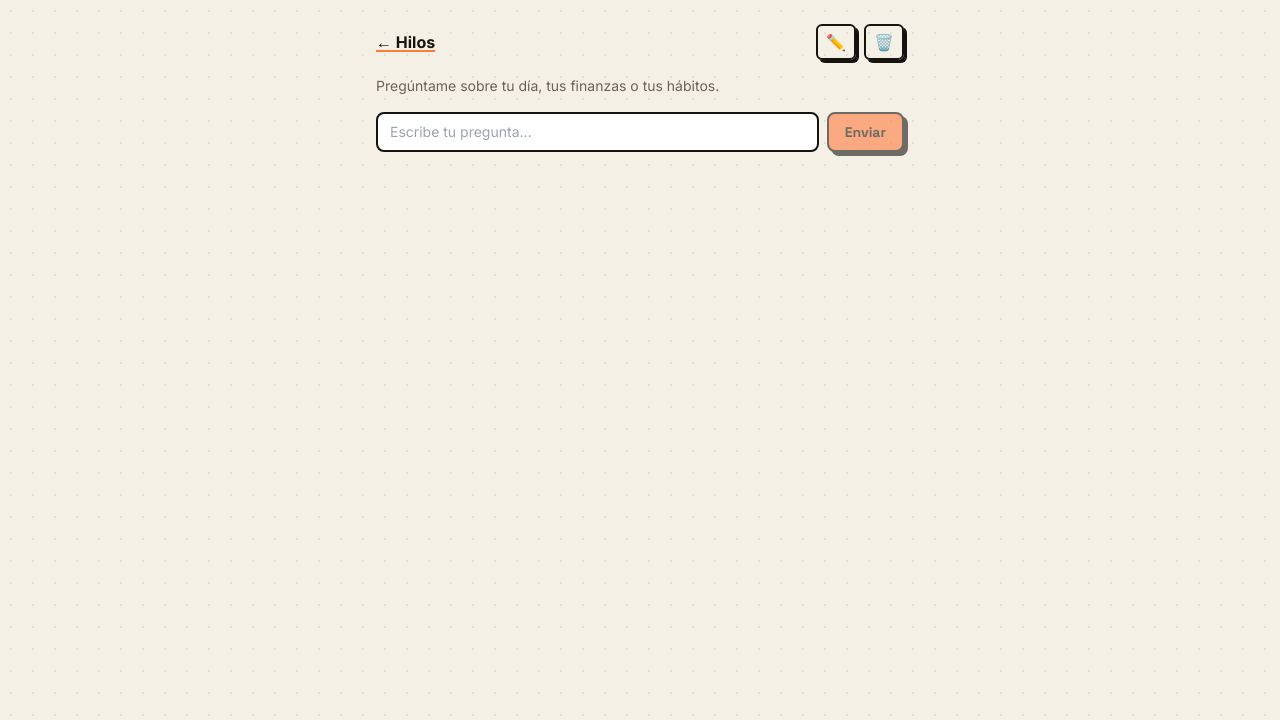
Test: ThreadChatPage › al enviar agrega la burbuja con la respuesta
Type "¿cómo voy?" into the field named "Mensaje" at [597, 132], box [376, 112, 819, 152]
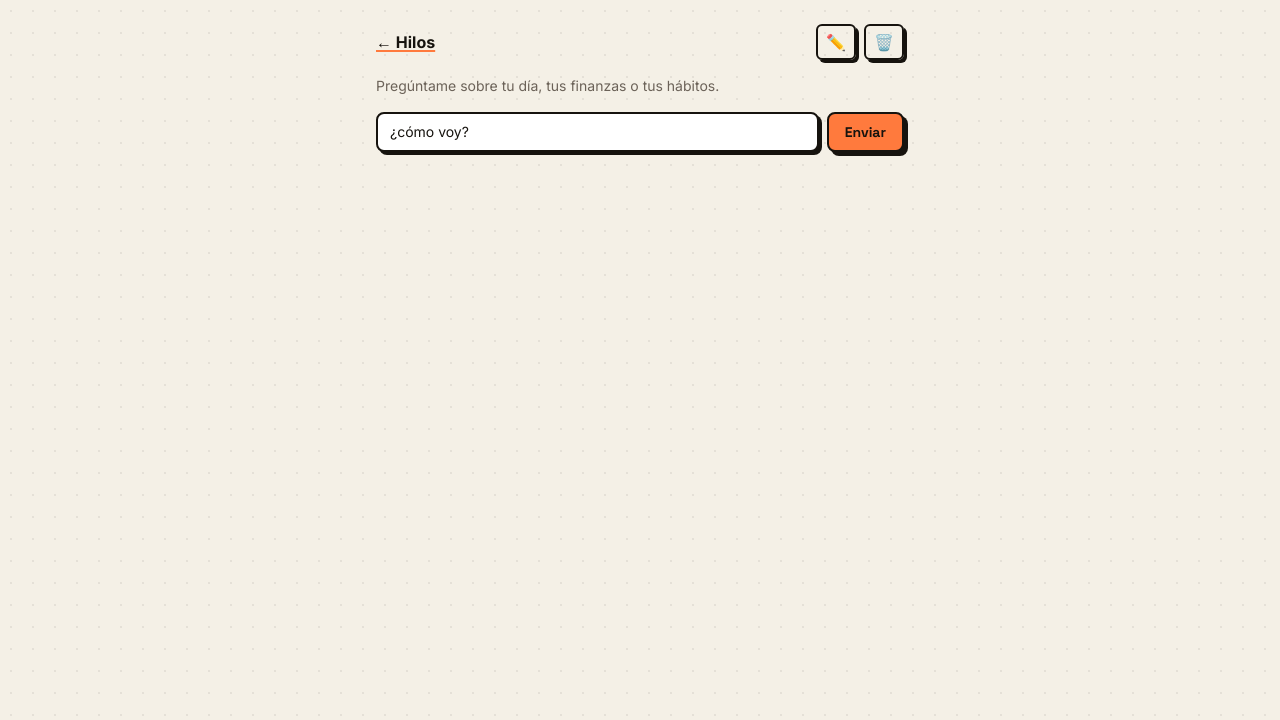
Click the button "Enviar" at [865, 132], box [827, 112, 904, 152]
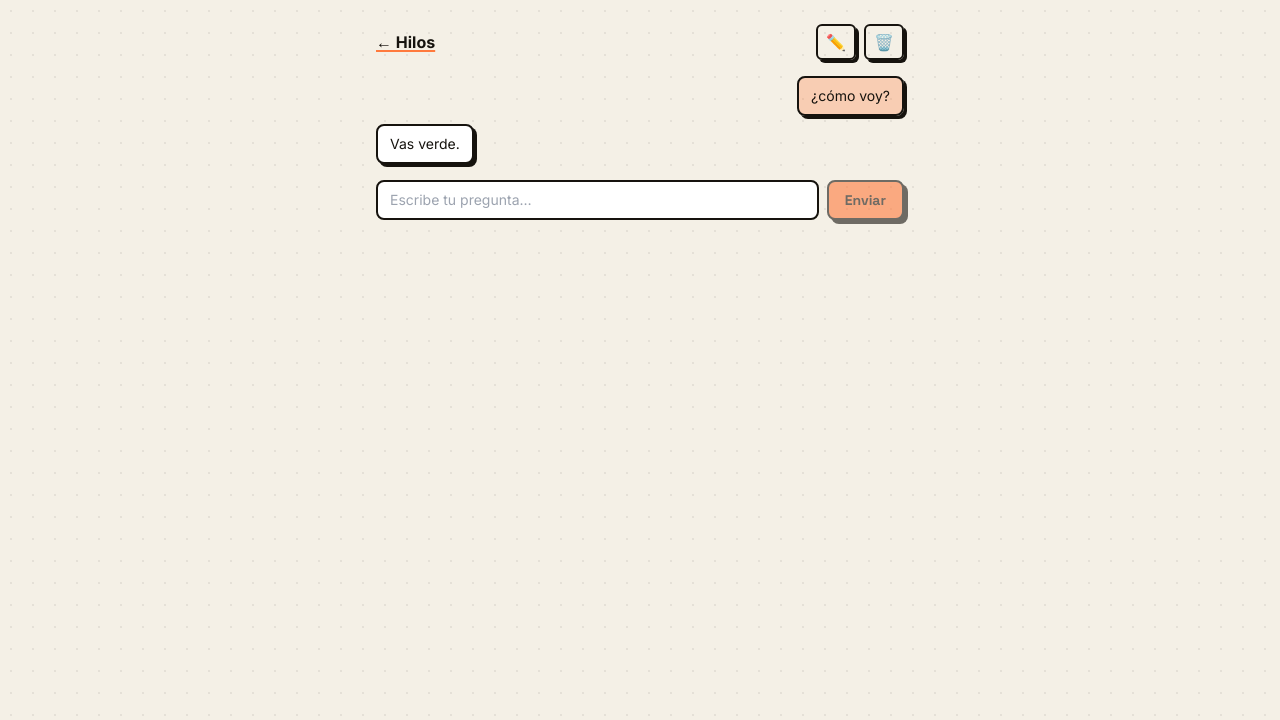
Now the text "Vas verde." is shown, box [376, 124, 474, 164]
Now the text "¿cómo voy?" is shown, box [797, 76, 904, 116]
